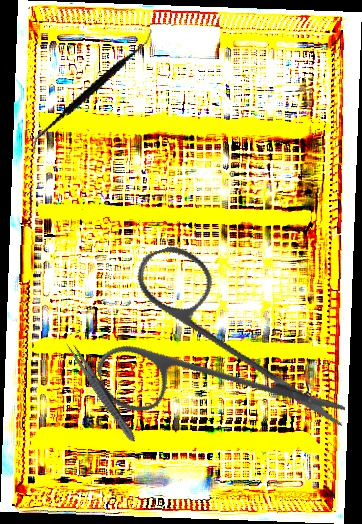Dressing Forceps: (62, 338, 140, 446)
Iris Scissors: (65, 209, 351, 498)
Spatula Surgical: (30, 7, 155, 175)
